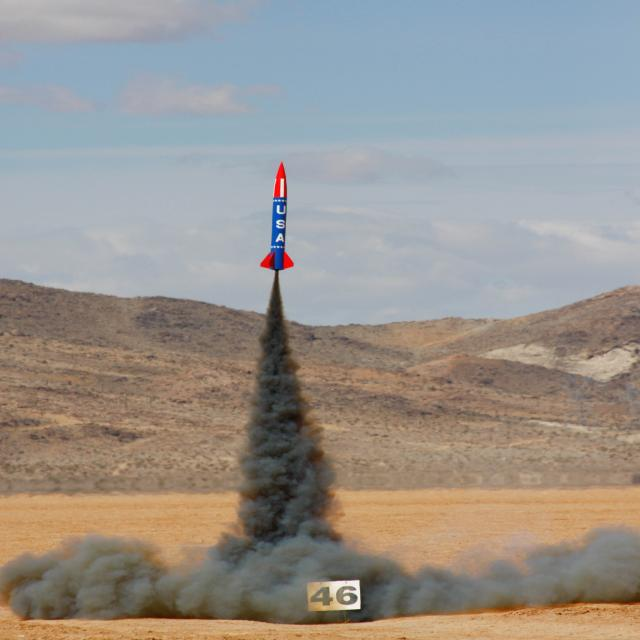Rocket: (259, 161, 295, 272)
